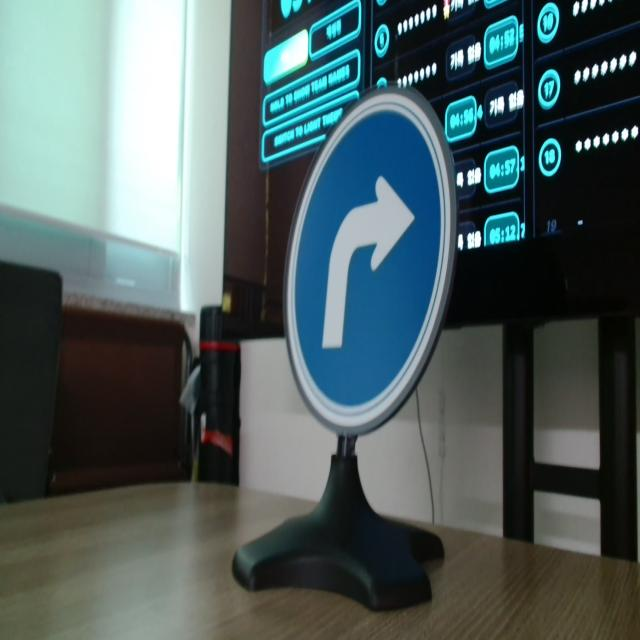right_dierection: (273, 75, 470, 456)
